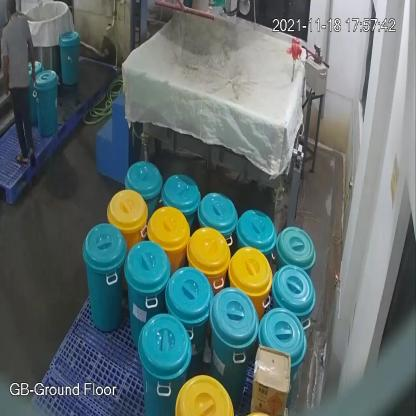no_shoes: (17, 154, 29, 164)
